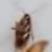cockroach: (15, 13, 32, 48)
